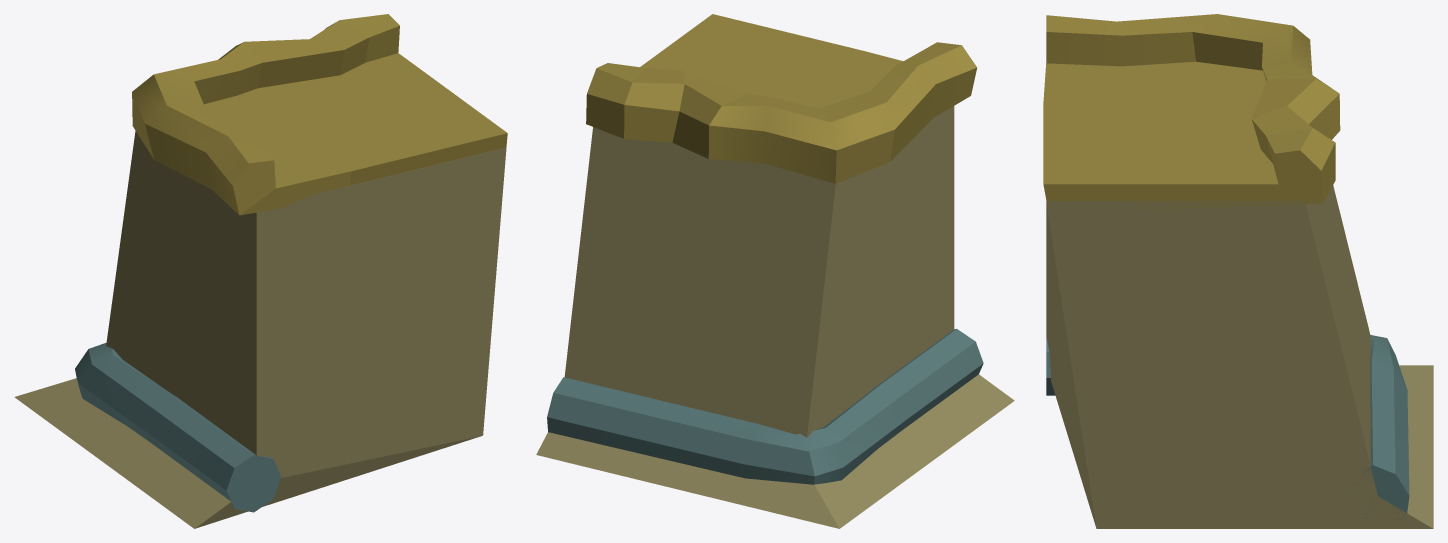
Rendered from Int_3_Wall_Hor_Mid_End_Right.fbx.
3 views of the same model, side by side, from view 1: azimuth 30°, elevation 25°; view 2: azimuth 150°, elevation 25°; view 3: azimuth 270°, elevation 25° (orthographic). The views are drawn at different scales.
Parts seen in each view (by area): view 1: Int_3_Wall_Hor_Mid_End_Right1; view 2: Int_3_Wall_Hor_Mid_End_Right1; view 3: Int_3_Wall_Hor_Mid_End_Right1.
Part boxes in pixels (x1=…): Int_3_Wall_Hor_Mid_End_Right1: x1=14, y1=14, x2=507, y2=528; Int_3_Wall_Hor_Mid_End_Right1: x1=536, y1=14, x2=1014, y2=528; Int_3_Wall_Hor_Mid_End_Right1: x1=1043, y1=14, x2=1433, y2=528.
Bounding box in the file's own units: 1 × 1.08 × 1.01.
